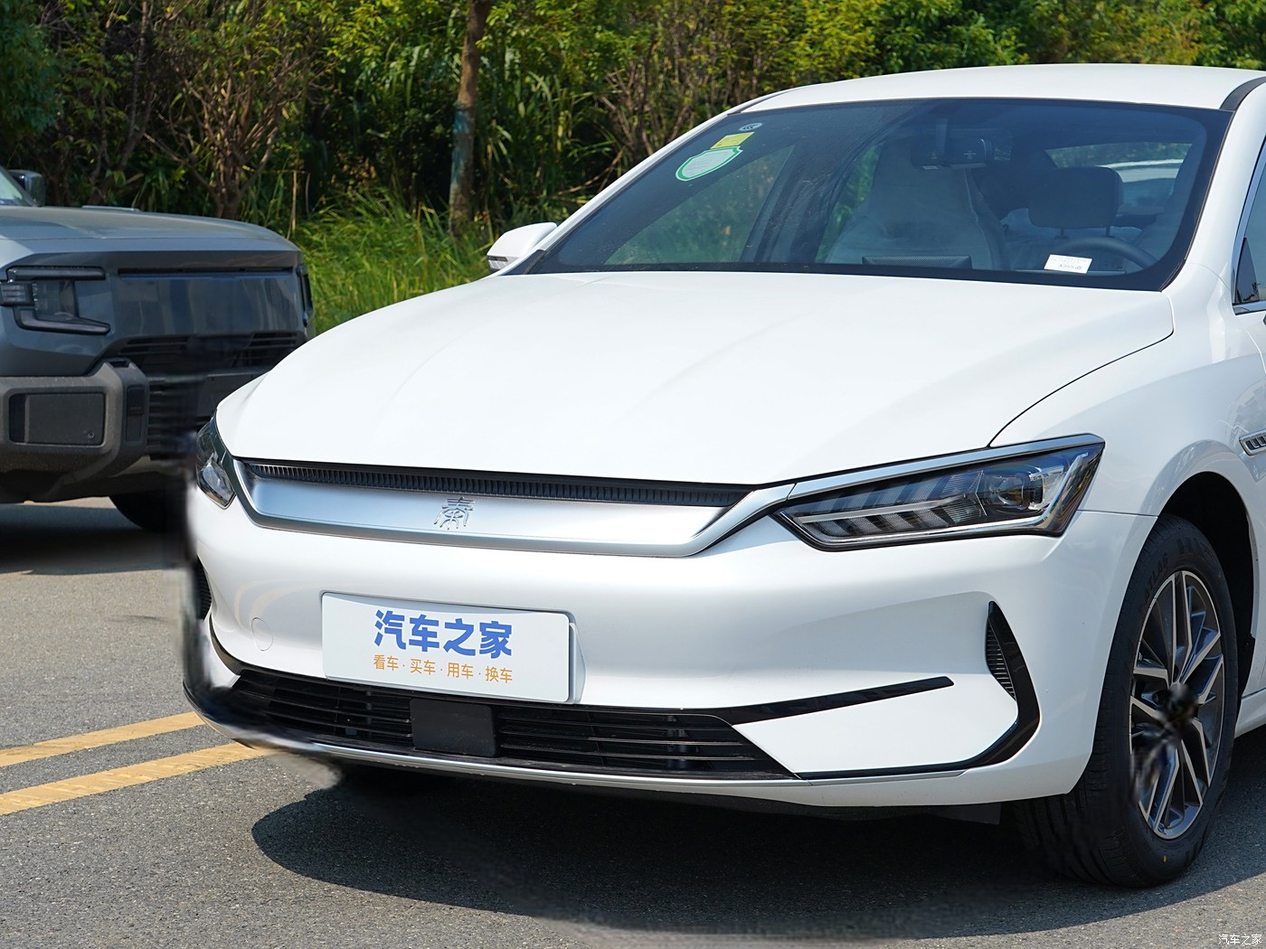BYD Qin: (434, 497, 475, 530)
